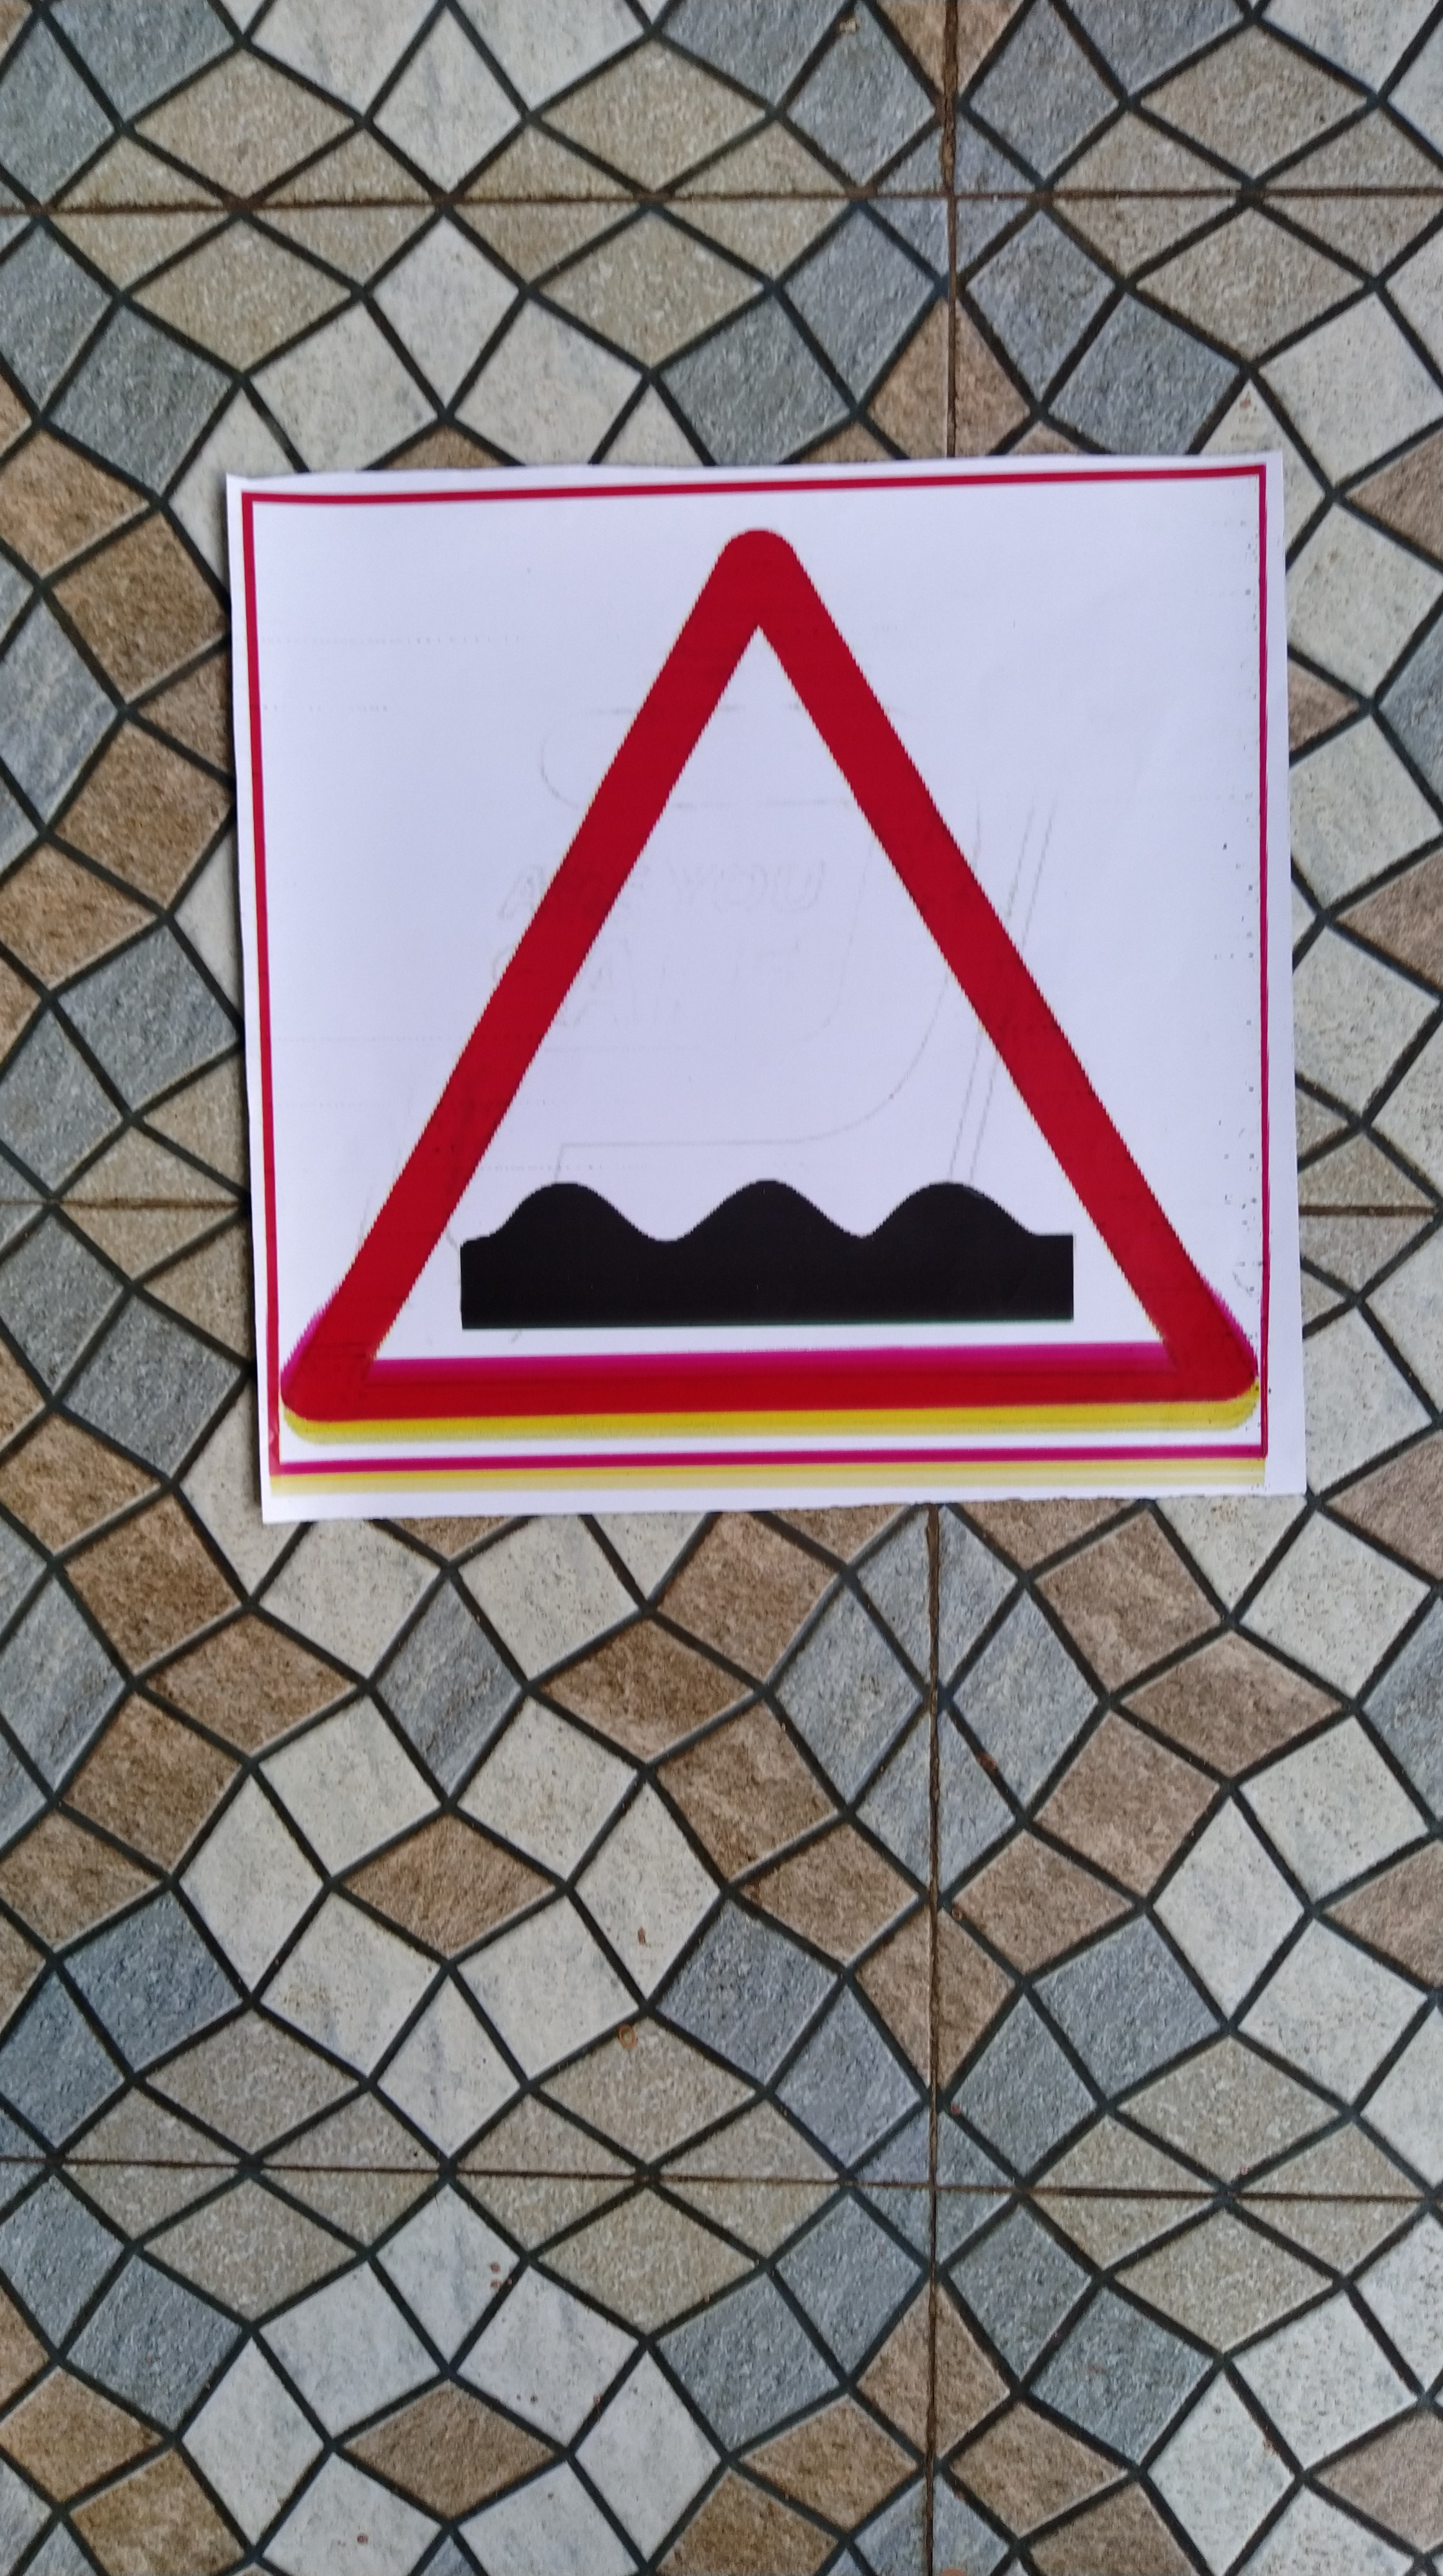speed breaker: (235, 485, 1300, 1511)
